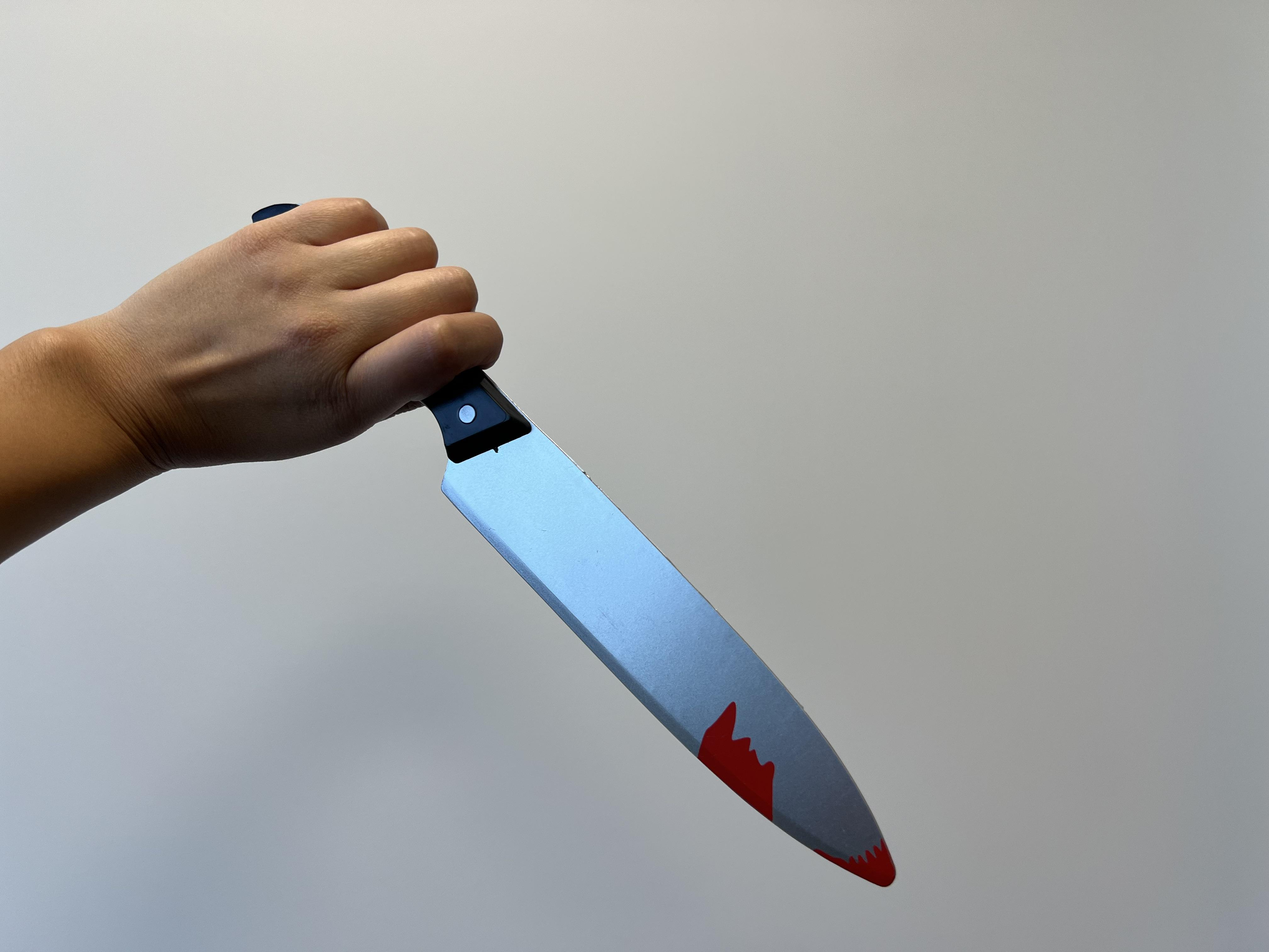Knife: (426, 365, 902, 894), (0, 196, 504, 566), (115, 194, 505, 463)
